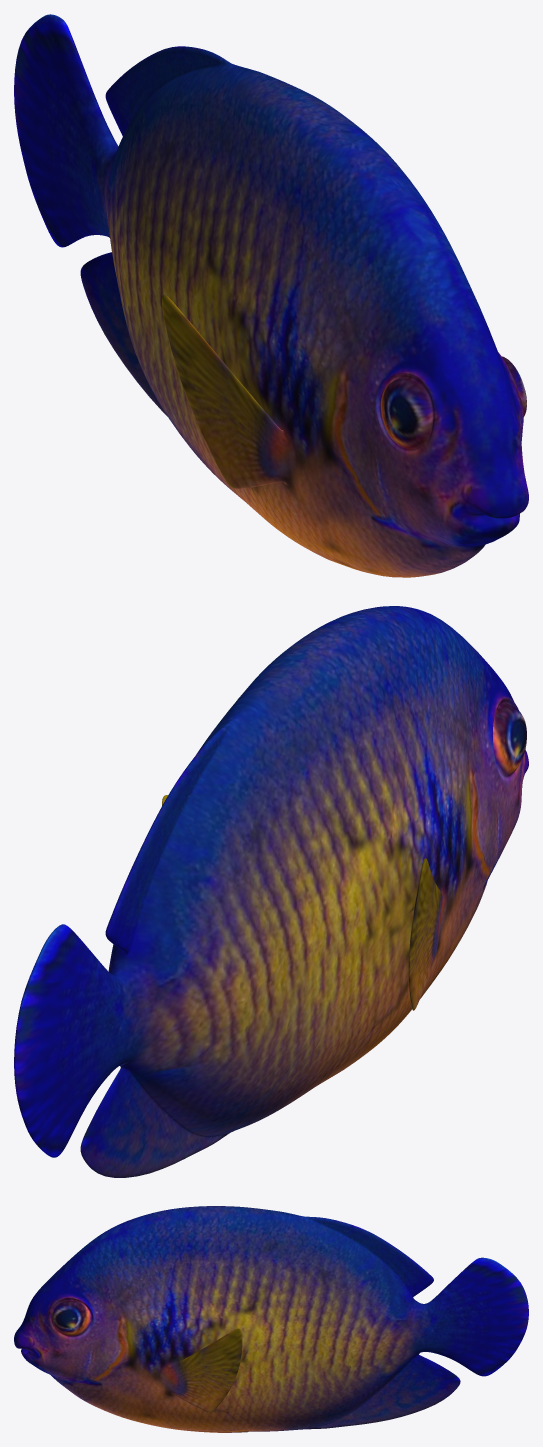
Rendered from angelfish.gltf.
3 views of the same model, one above another, from view 1: azimuth 30°, elevation 25°; view 2: azimuth 150°, elevation 25°; view 3: azimuth 270°, elevation 25° (orthographic). The views are drawn at different scales.
Visible parts, largest first — view 1: 13009_Coral_Beauty_Angelfish_v1_l3; view 2: 13009_Coral_Beauty_Angelfish_v1_l3; view 3: 13009_Coral_Beauty_Angelfish_v1_l3.
Boxes of the visible parts, x1,y1,x2,y2 form: 13009_Coral_Beauty_Angelfish_v1_l3: (14,14,528,577); 13009_Coral_Beauty_Angelfish_v1_l3: (14,606,528,1177); 13009_Coral_Beauty_Angelfish_v1_l3: (14,1206,528,1432).
Bounding box in the file's own units: 0.369 × 0.5816 × 1.21.
Materials: 1 (1 with a texture image).
